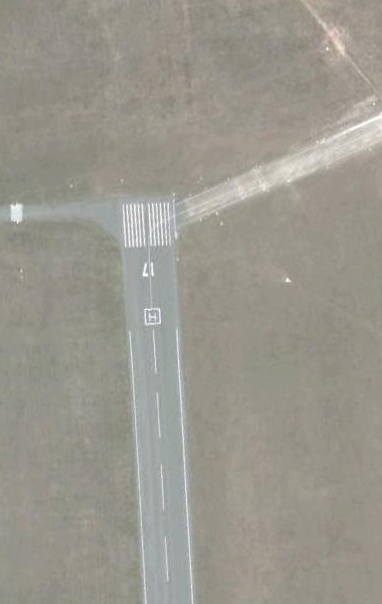heliport: (141, 305, 164, 327)
